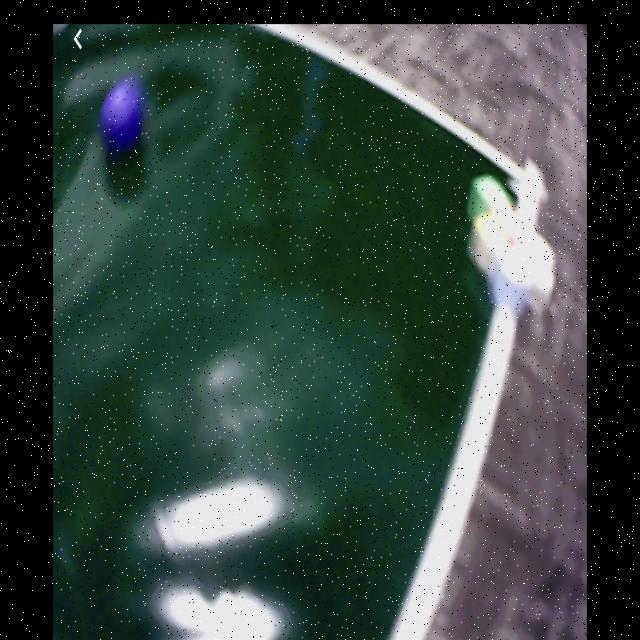ball: (98, 80, 147, 150)
